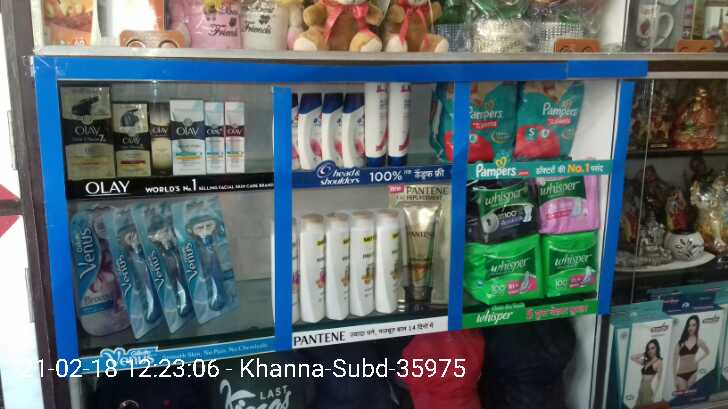venus: (71, 204, 117, 337), (145, 202, 186, 323), (186, 202, 224, 323), (117, 202, 145, 337)
